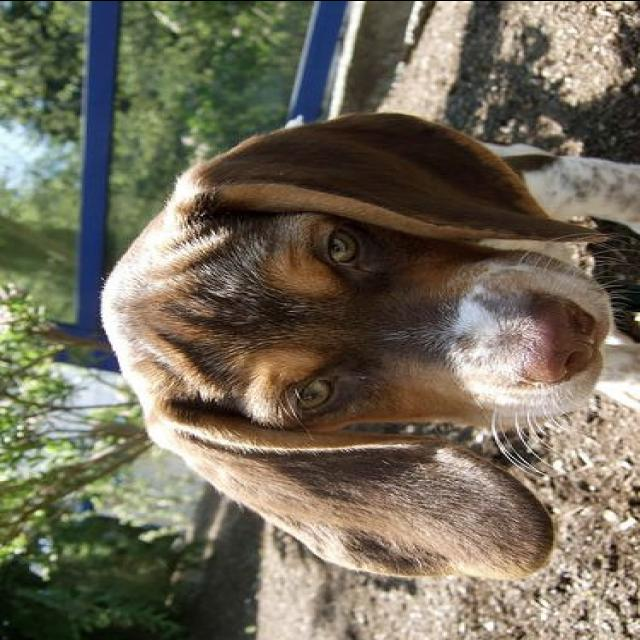beagle: (102, 104, 638, 578)
